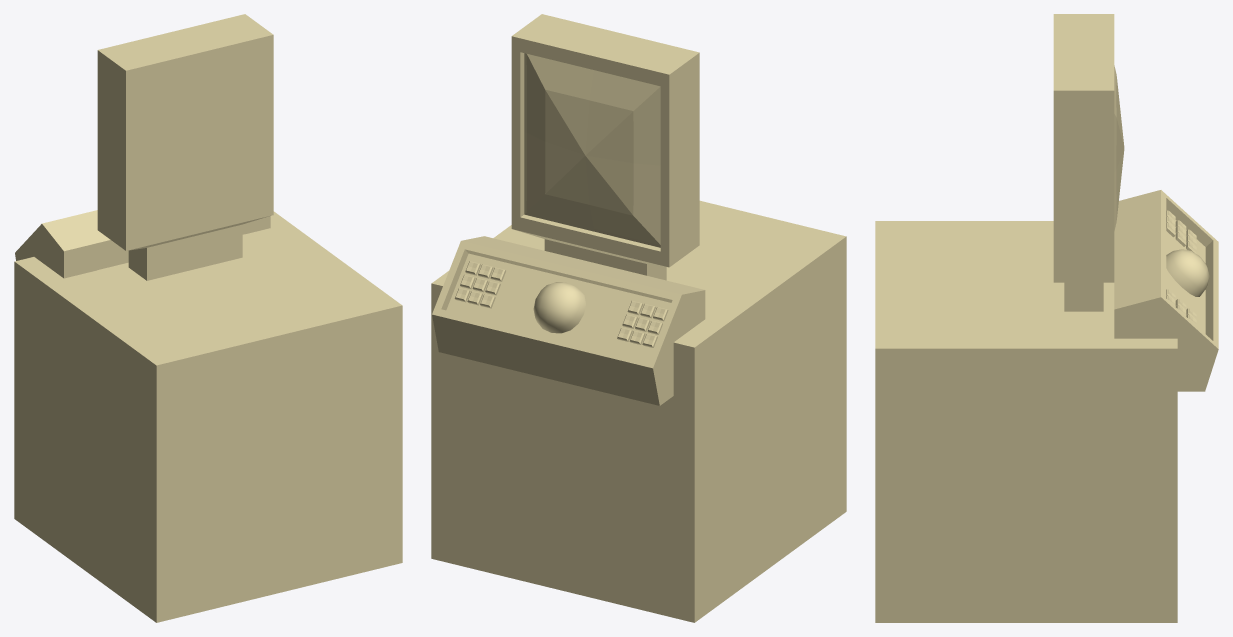
Rendered from Tech_Monitor.fbx.
The picture shows the model from 3 angles, left to right: view 1: azimuth 30°, elevation 25°; view 2: azimuth 150°, elevation 25°; view 3: azimuth 270°, elevation 25°; orthographic projection. The views are drawn at different scales.
Visible parts, largest first — view 1: Tech_Monitor; view 2: Tech_Monitor; view 3: Tech_Monitor.
Boxes of the visible parts, left/top/right/bottom form: Tech_Monitor: left=14, top=14, right=402, bottom=622; Tech_Monitor: left=431, top=14, right=846, bottom=622; Tech_Monitor: left=875, top=14, right=1218, bottom=622.
Bounding box in the file's own units: 100 × 186 × 114.
